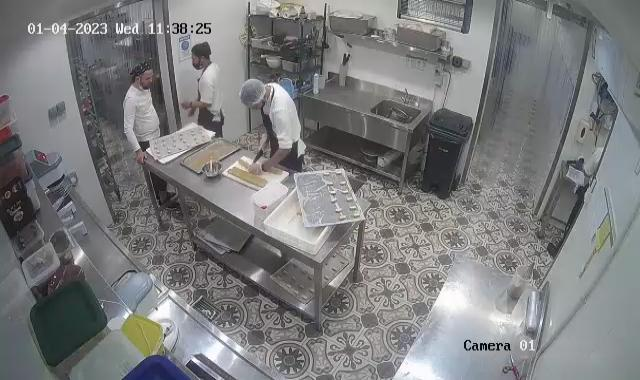hairnet: (238, 79, 264, 106)
no_hairnet: (130, 61, 155, 83), (188, 39, 212, 61)
